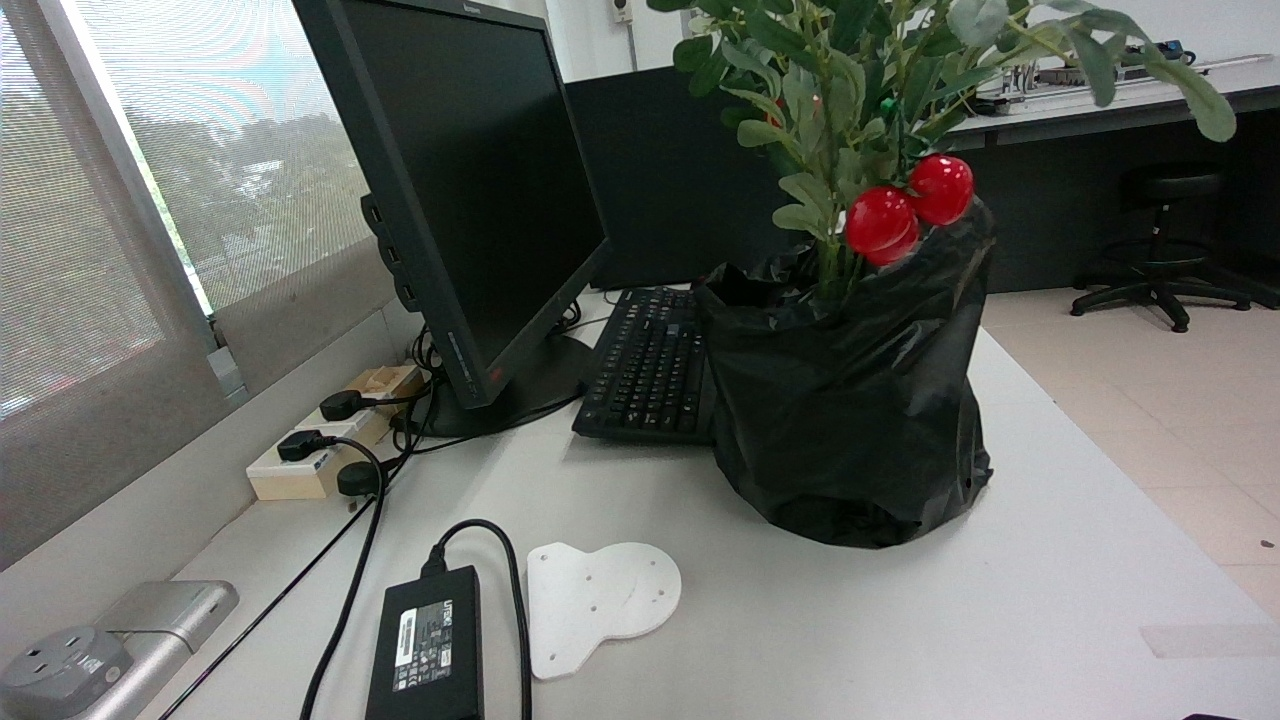peduncle: (899, 111, 905, 131)
strawberry: (846, 185, 922, 266), (910, 152, 976, 224)
